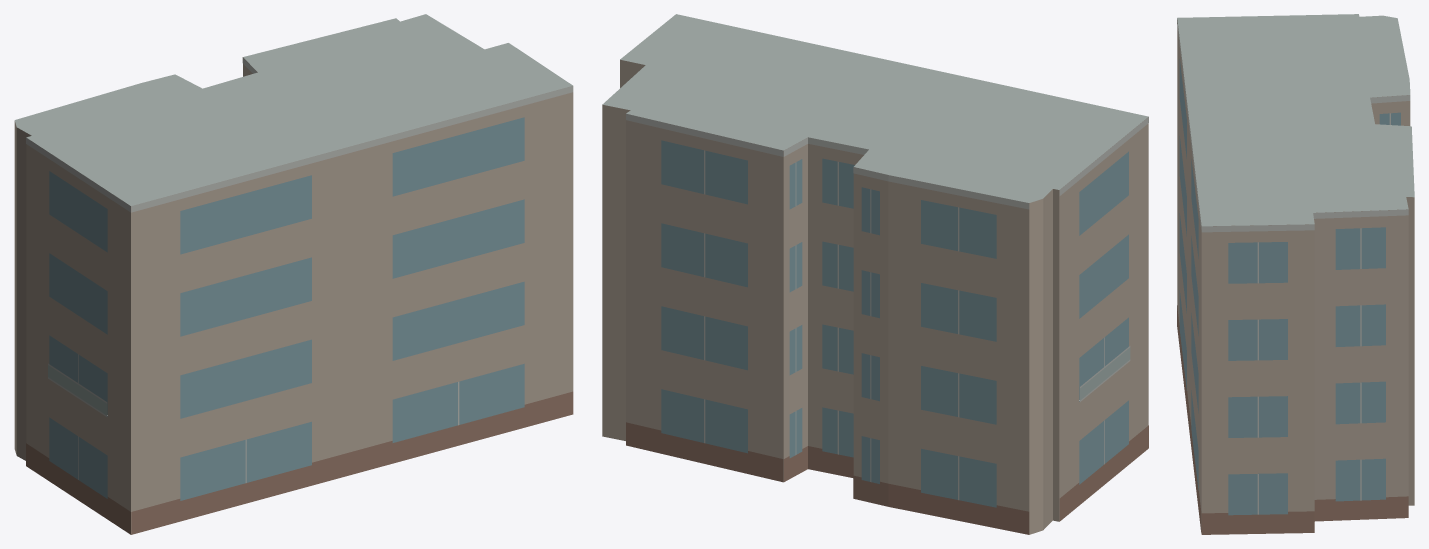
Rendered from survey-upis-32630165.glb.
3 renders of one model, left to right at view 1: azimuth 30°, elevation 25°; view 2: azimuth 150°, elevation 25°; view 3: azimuth 270°, elevation 25°, orthographic. The views are drawn at different scales.
Parts seen in each view (by area): view 1: survey-upis-32630165.tmp; view 2: survey-upis-32630165.tmp; view 3: survey-upis-32630165.tmp.
Part boxes in pixels (box(x1,y1,x2,y2)): survey-upis-32630165.tmp: box(14, 14, 573, 534); survey-upis-32630165.tmp: box(602, 14, 1148, 534); survey-upis-32630165.tmp: box(1177, 14, 1414, 534).
Size of the model in its own units: 18.46 by 12.5 by 8.73.
